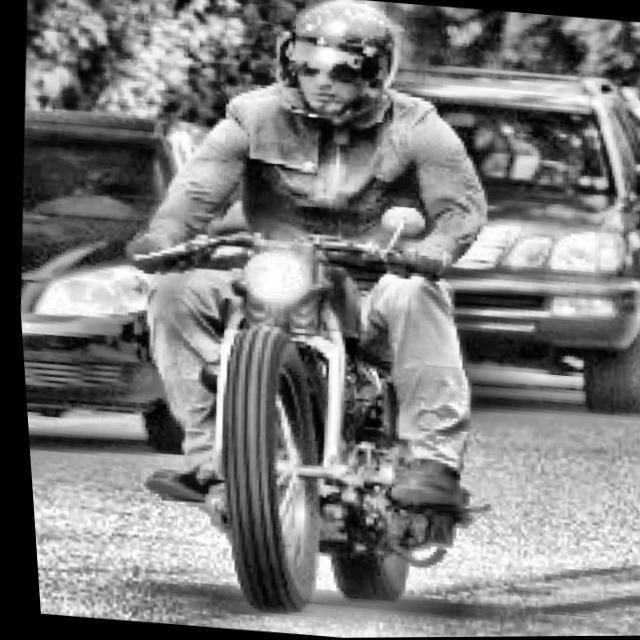motorcycle: (71, 185, 542, 637)
